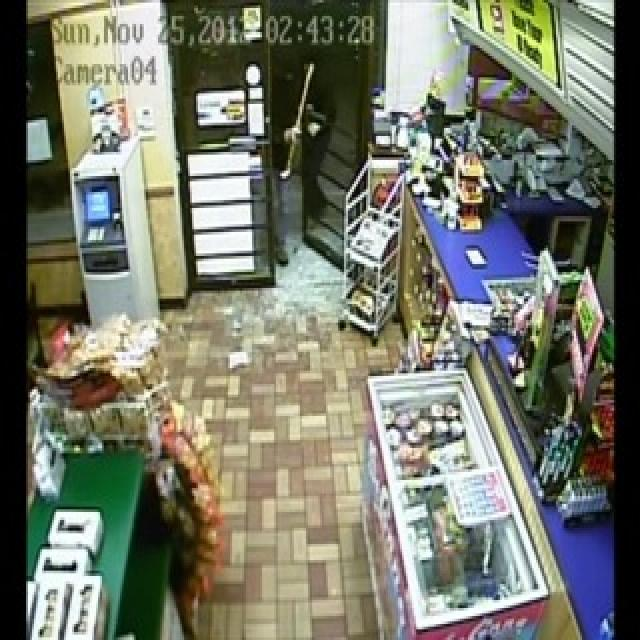thief: (266, 55, 335, 267)
